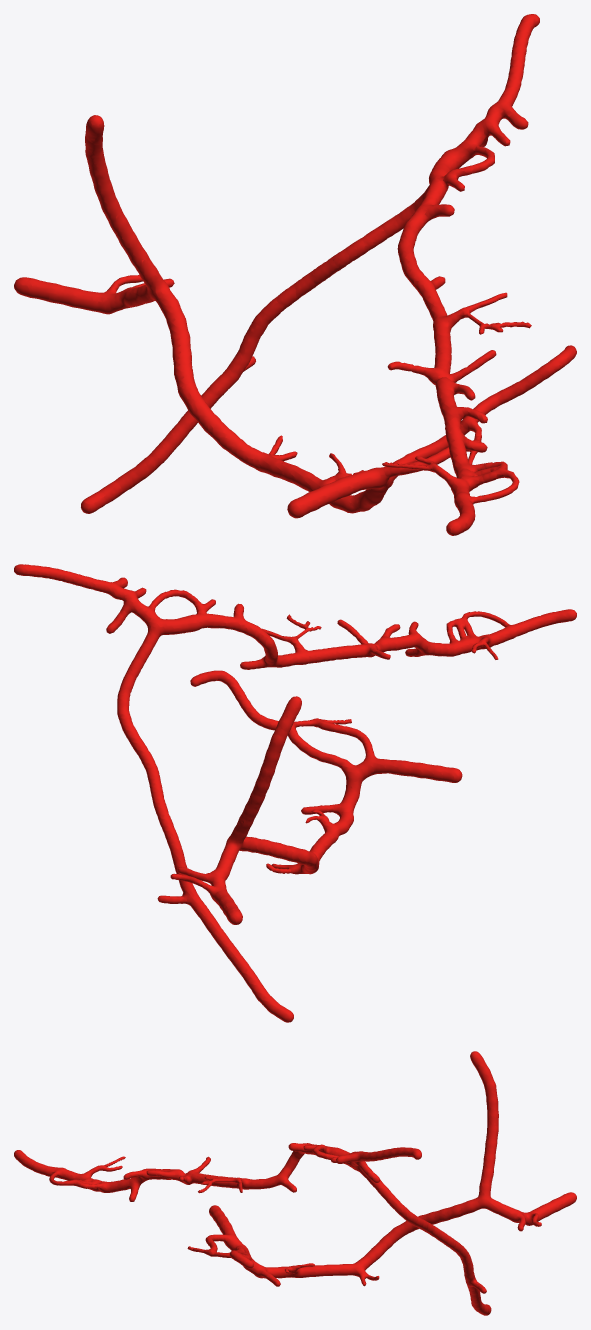
Rendered from sample.obj.
3 views of the same model, one above another, from view 1: azimuth 30°, elevation 25°; view 2: azimuth 150°, elevation 25°; view 3: azimuth 270°, elevation 25° (orthographic). The views are drawn at different scales.
Parts seen in each view (by area): view 1: 4_Mesh_4; view 2: 4_Mesh_4; view 3: 4_Mesh_4.
Boxes of the visible parts, x1,y1,x2,y2 form: 4_Mesh_4: [14, 14, 576, 535]; 4_Mesh_4: [14, 564, 576, 1022]; 4_Mesh_4: [14, 1051, 576, 1315].
Bounding box in the file's own units: 64.07 × 66.64 × 119.
